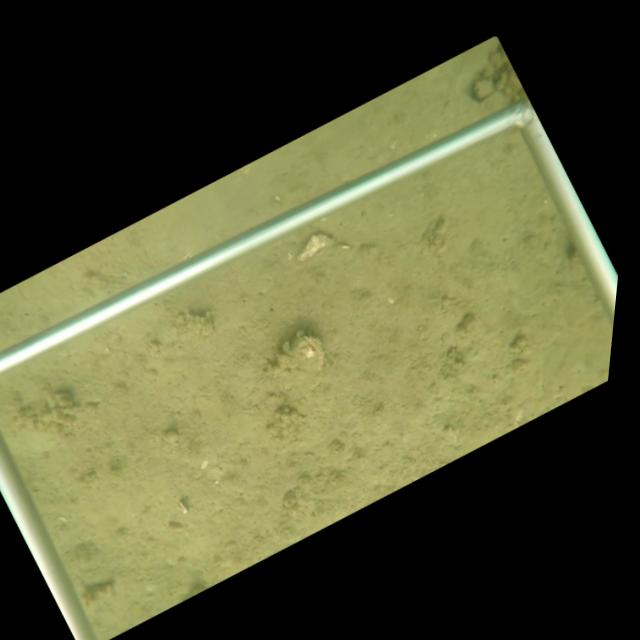Oyster-Indeterminate: (270, 332, 326, 401)
